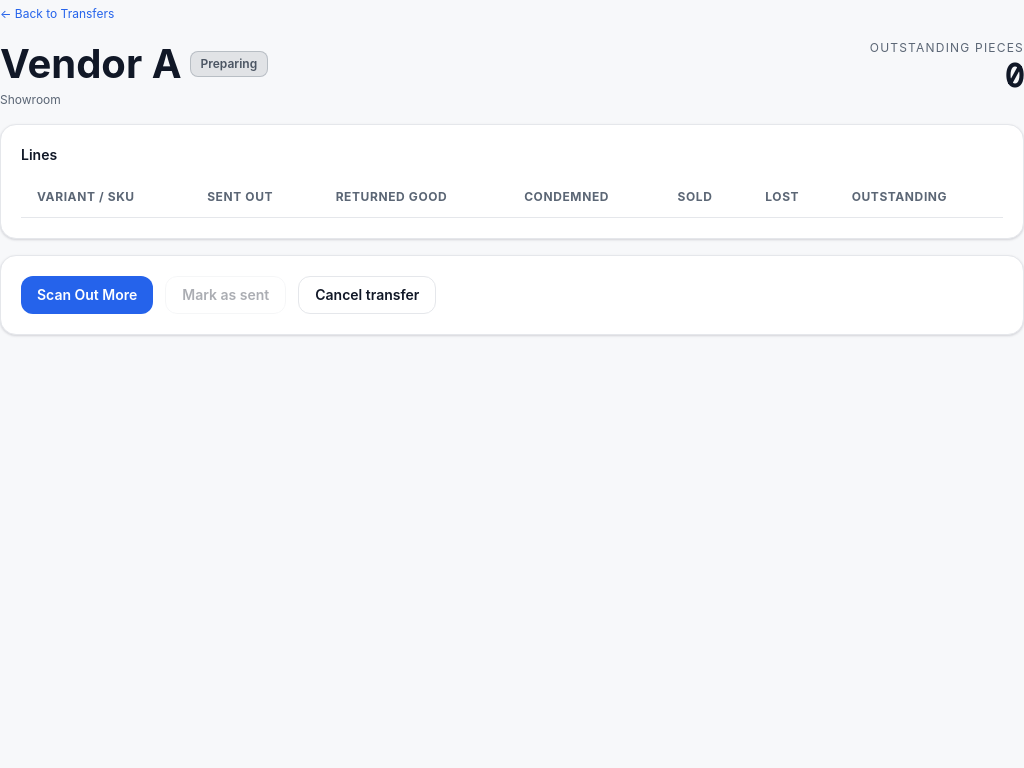
Test: Transfer detail — mark as sent and cancel › lc11 — cancel asks first, "Keep it" does nothing, confirming cancels and shows the banner
Click the button "Cancel transfer": (367, 295) [298,276,436,314]
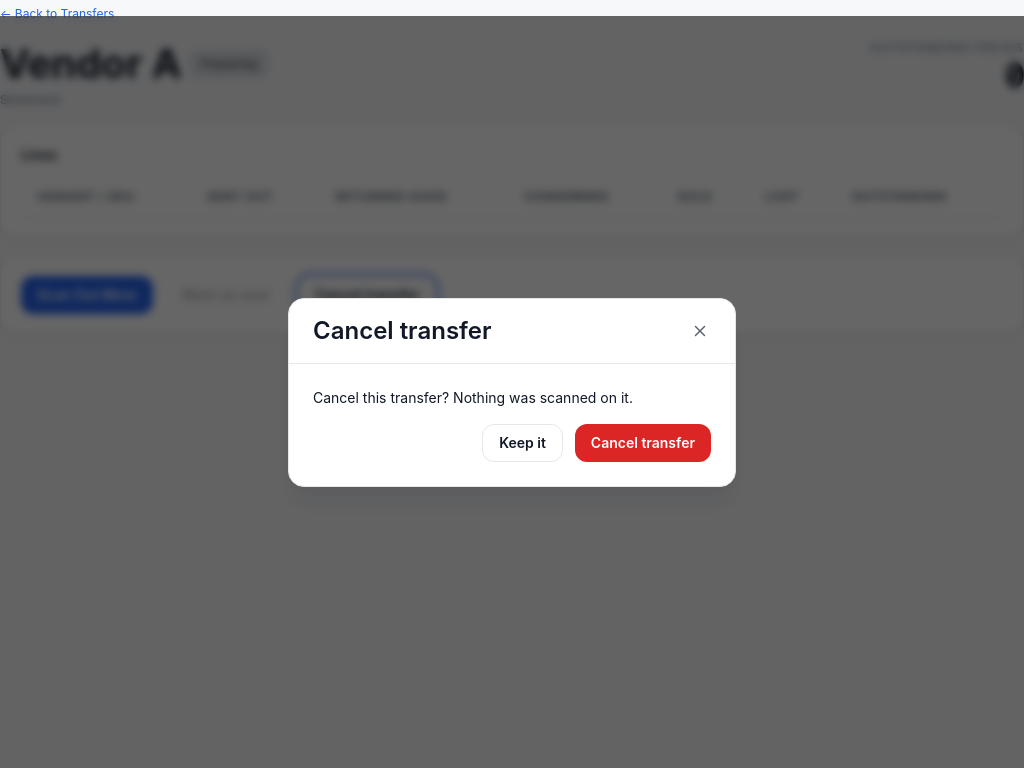
Expected: the text "Cancel this transfer? Nothing was scanned on it." is shown, [313,388,633,406]
Click the button "Keep it": (522, 442) [482,424,563,462]
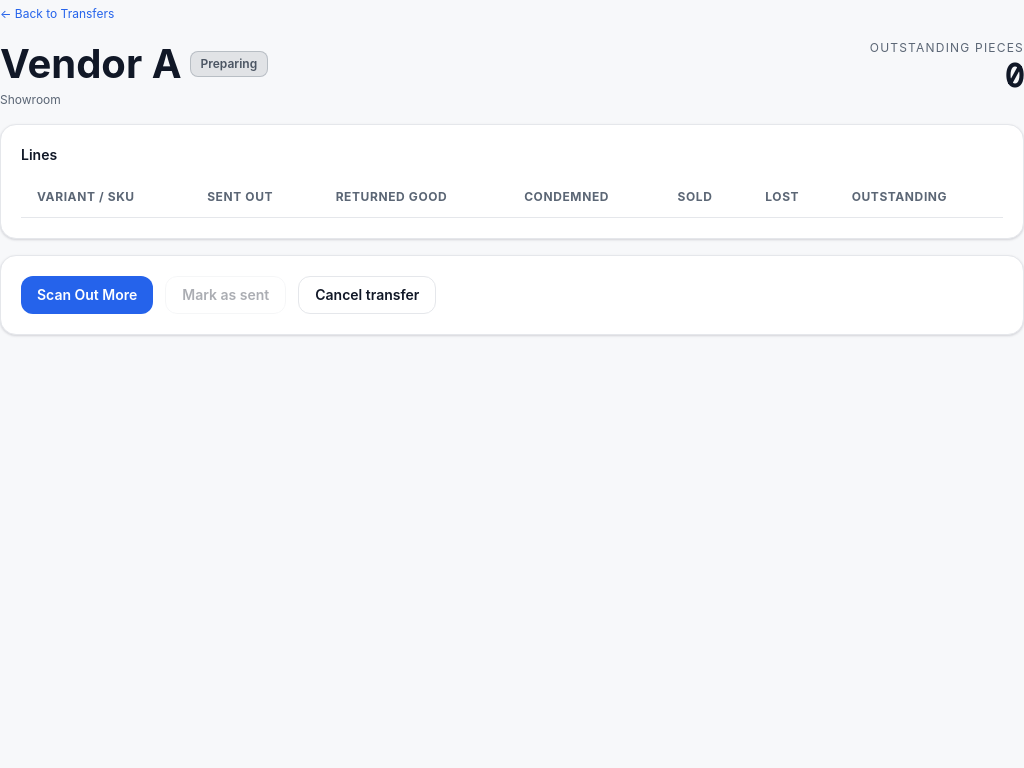
Click the button "Cancel transfer": (367, 295) [298,276,436,314]
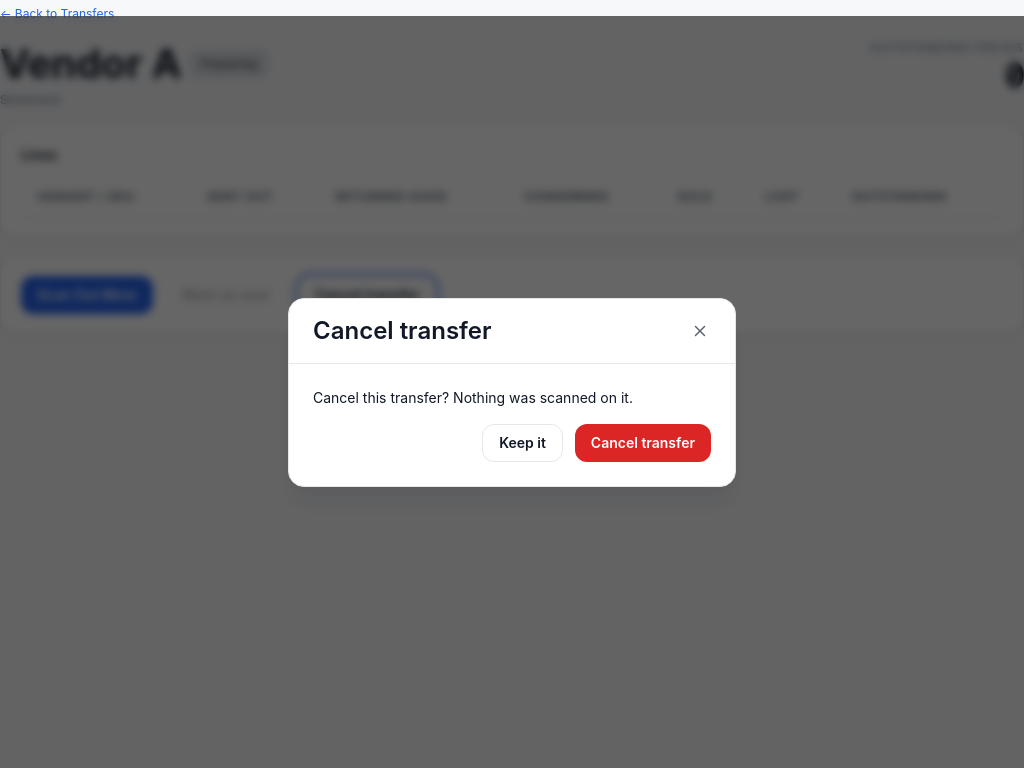
Click the button "Cancel transfer": (643, 442) [575,424,711,462]
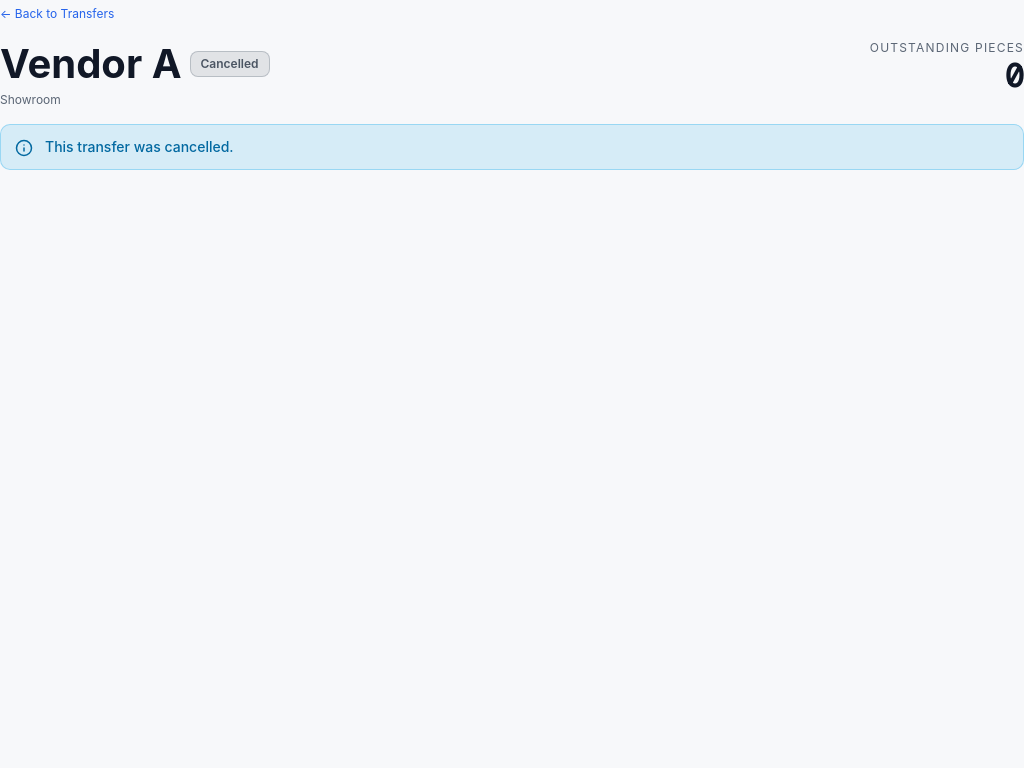
Expected: the text "This transfer was cancelled." is shown, [45,138,234,155]
